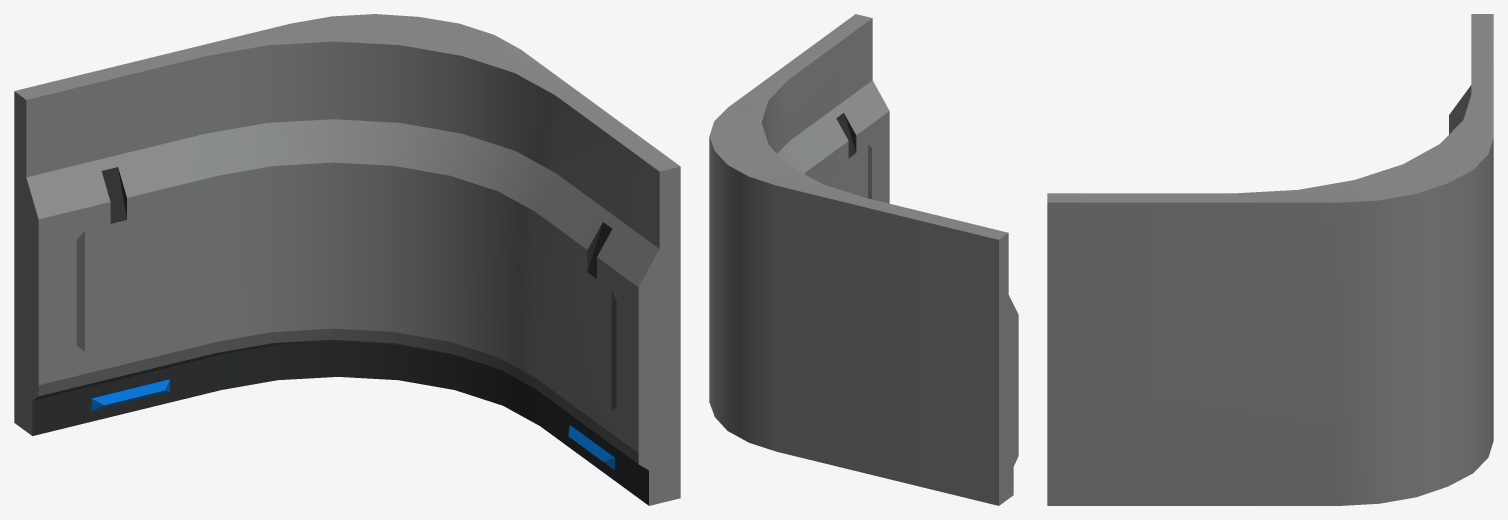
The model's file is Wall_type_B_043.fbx.
3 views of the same model, side by side, from view 1: azimuth 30°, elevation 25°; view 2: azimuth 150°, elevation 25°; view 3: azimuth 270°, elevation 25° (orthographic). The views are drawn at different scales.
Visible parts, largest first — view 1: Wall_type_B_043; view 2: Wall_type_B_043; view 3: Wall_type_B_043.
Part boxes in pixels (box(x1,y1,x2,y2)): Wall_type_B_043: box(14, 14, 680, 505); Wall_type_B_043: box(709, 14, 1018, 505); Wall_type_B_043: box(1047, 14, 1493, 505).
Size of the model in its own units: 200 by 200 by 150.
